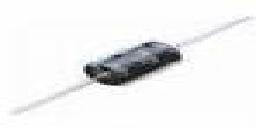Electrolytic-capacitor: (14, 12, 255, 119), (78, 38, 181, 89)
